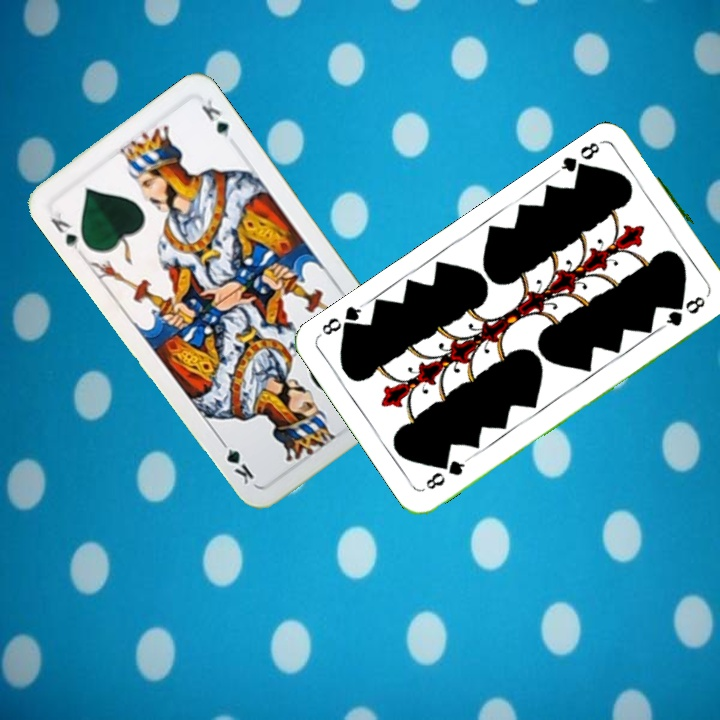G8: (554, 136, 607, 180), (421, 454, 472, 492)
GK: (46, 206, 82, 251)
